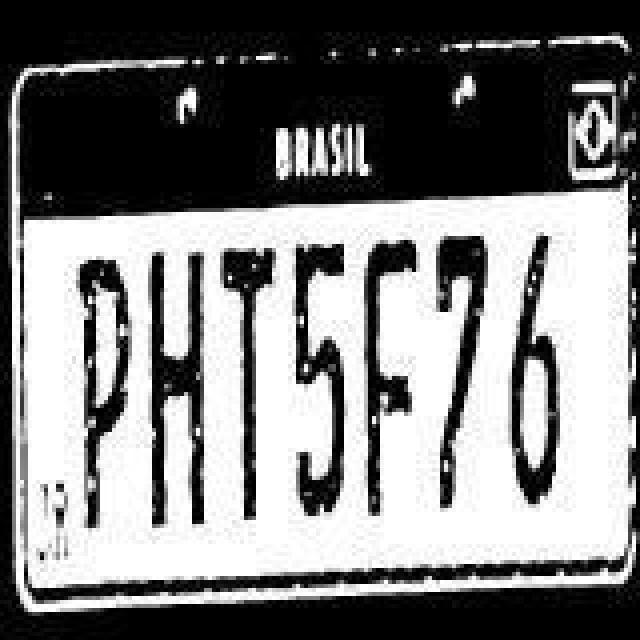5: (290, 218, 350, 526)
6: (502, 222, 570, 514)
7: (428, 218, 500, 510)
F: (360, 218, 432, 526)
H: (144, 220, 216, 540)
P: (74, 228, 134, 540)
T: (216, 216, 288, 520)
